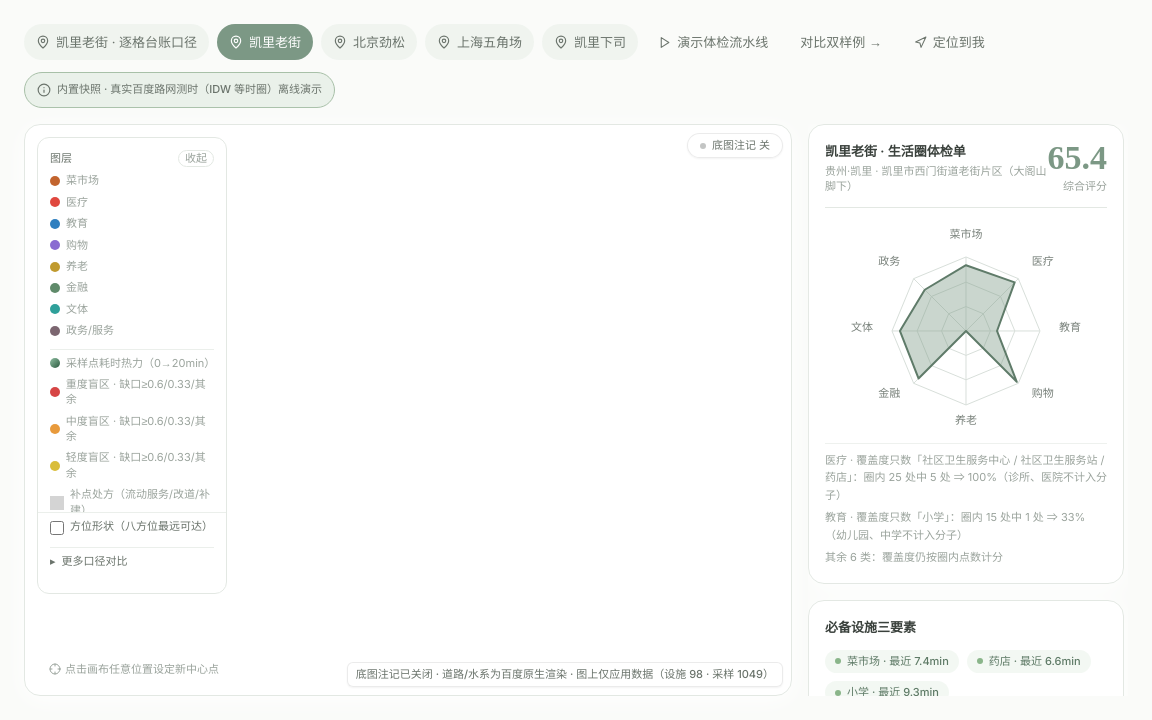
it: ② 图例接线（方案②：常驻的只有标题，勾选与副行点开才出现） › 点标题 ⇒ 展开、勾选项出现且默认未勾；那句口径的数来自出厂夹具；再点收起
Click the button "▸ 更多口径对比" at (132, 562), box x1=50 y1=554 x2=214 y2=569
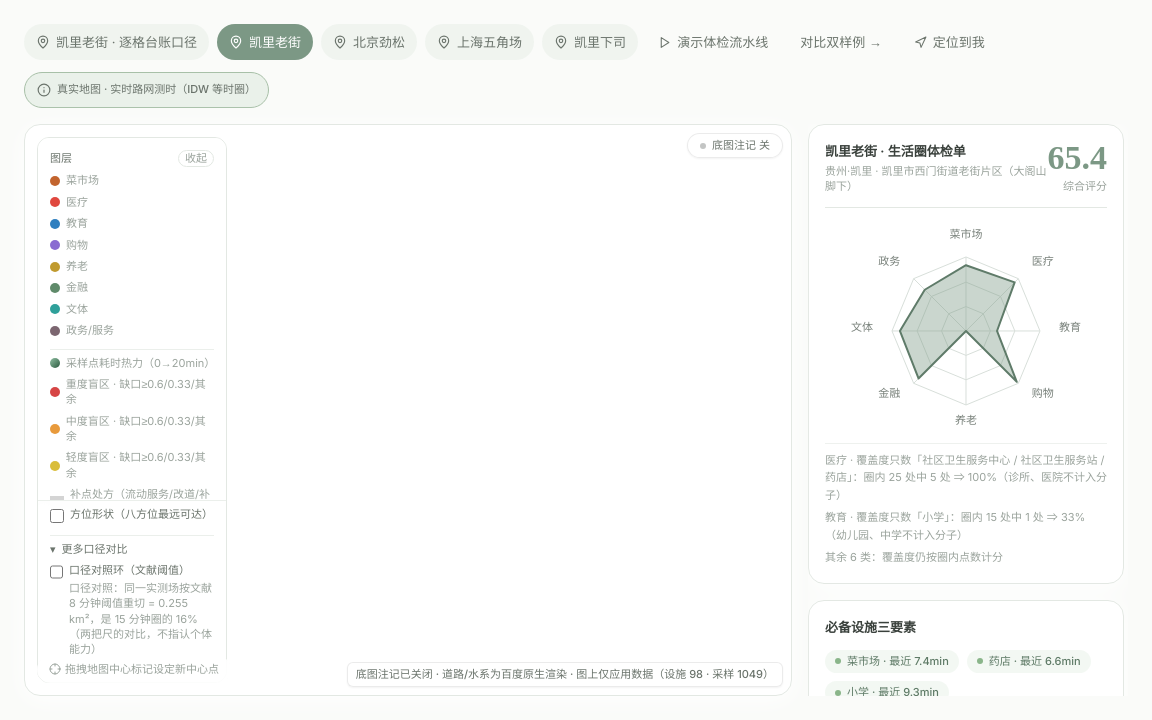
Now the text "口径对照环（文献阈值）" shows "0.255", box x1=69 y1=581 x2=212 y2=657
Now the text "口径对照环（文献阈值）" shows "16%", box x1=69 y1=581 x2=212 y2=657
Now the 2nd checkbox is not checked
Click the 2nd checkbox at (56, 573), box x1=50 y1=566 x2=63 y2=580
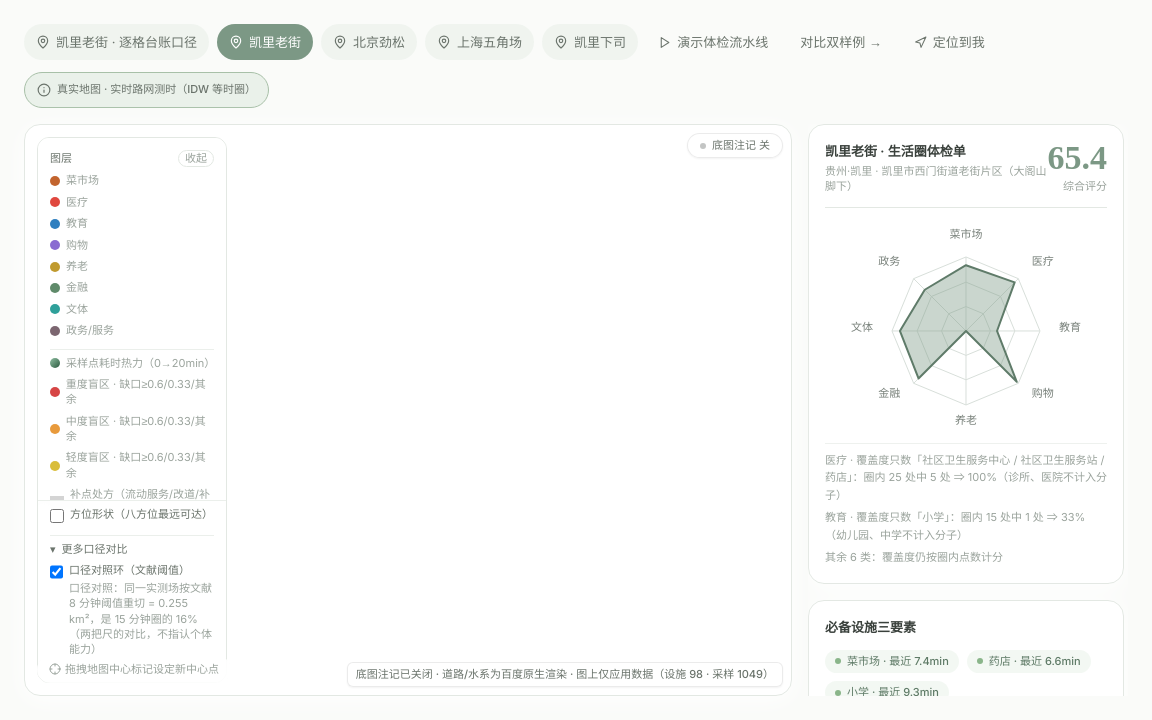
Now the 2nd checkbox is checked, box x1=50 y1=566 x2=63 y2=580
Click the button "▾ 更多口径对比" at (132, 550), box x1=50 y1=542 x2=214 y2=558
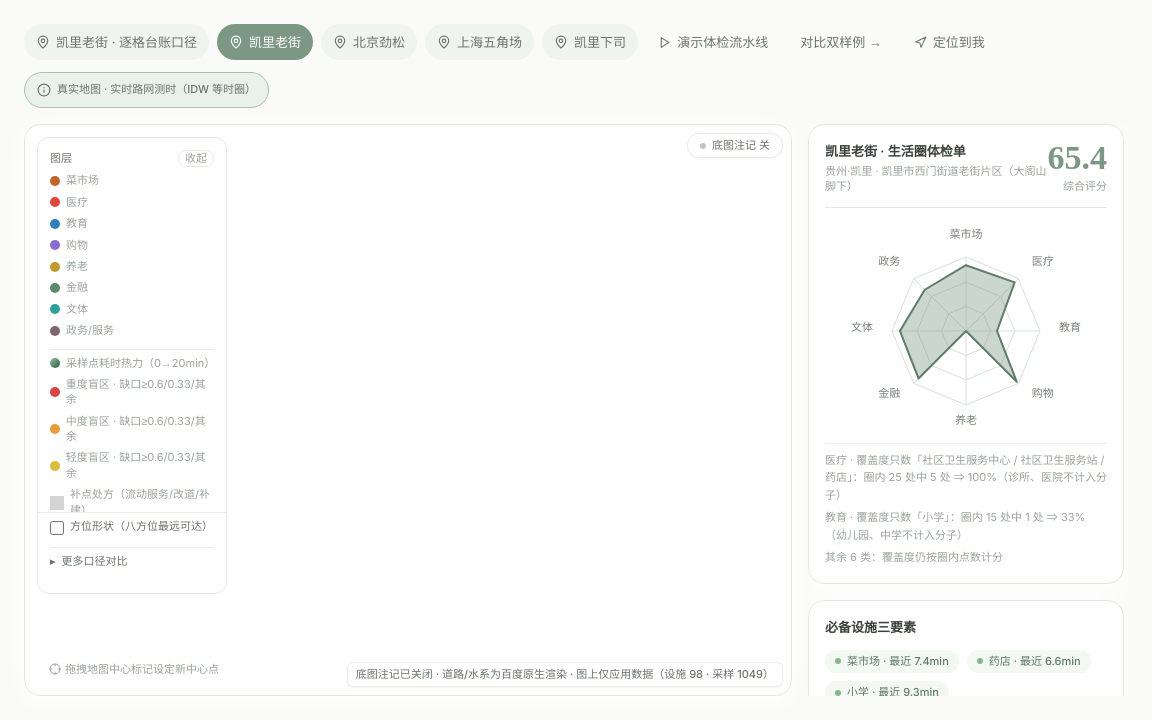
Now the text "口径对照环（文献阈值）" is gone
